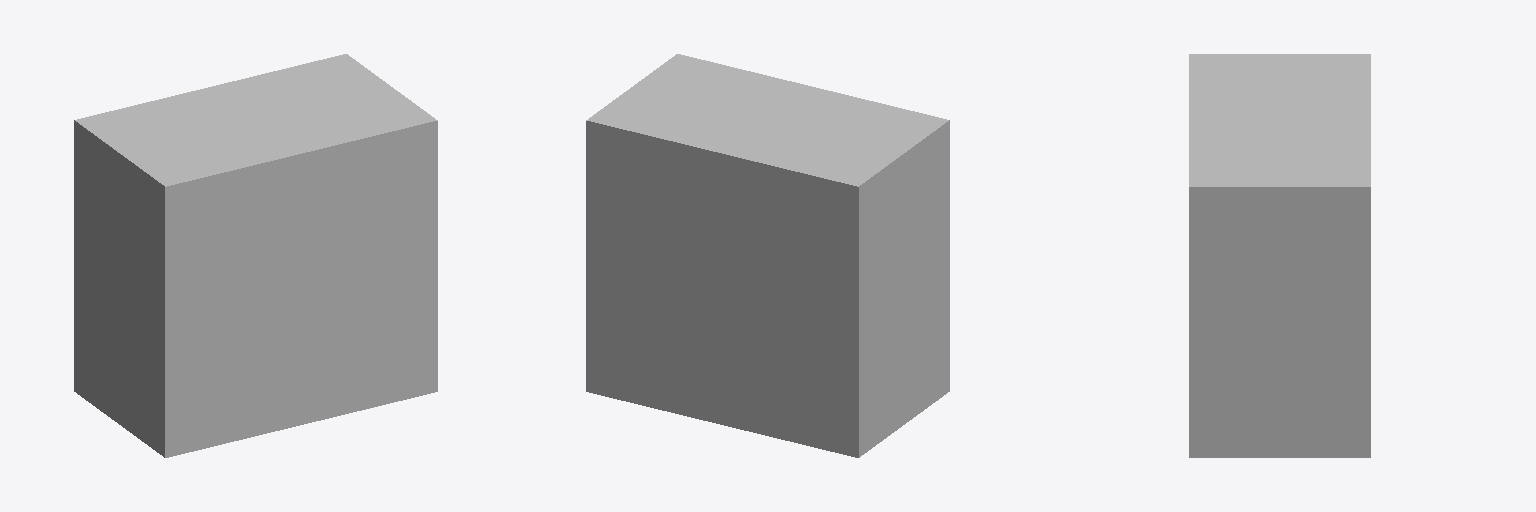
File: glass.obj
The picture shows the model from 3 angles: view 1: azimuth 30°, elevation 25°; view 2: azimuth 150°, elevation 25°; view 3: azimuth 270°, elevation 25°; orthographic projection.
Visible parts, largest first — view 1: Cube.001_Cube.003; view 2: Cube.001_Cube.003; view 3: Cube.001_Cube.003.
Boxes of the visible parts, x1=… form: Cube.001_Cube.003: x1=74, y1=54, x2=437, y2=457; Cube.001_Cube.003: x1=586, y1=54, x2=949, y2=457; Cube.001_Cube.003: x1=1189, y1=54, x2=1370, y2=457.
Bounding box in the file's own units: 9.17 × 8.74 × 5.32.